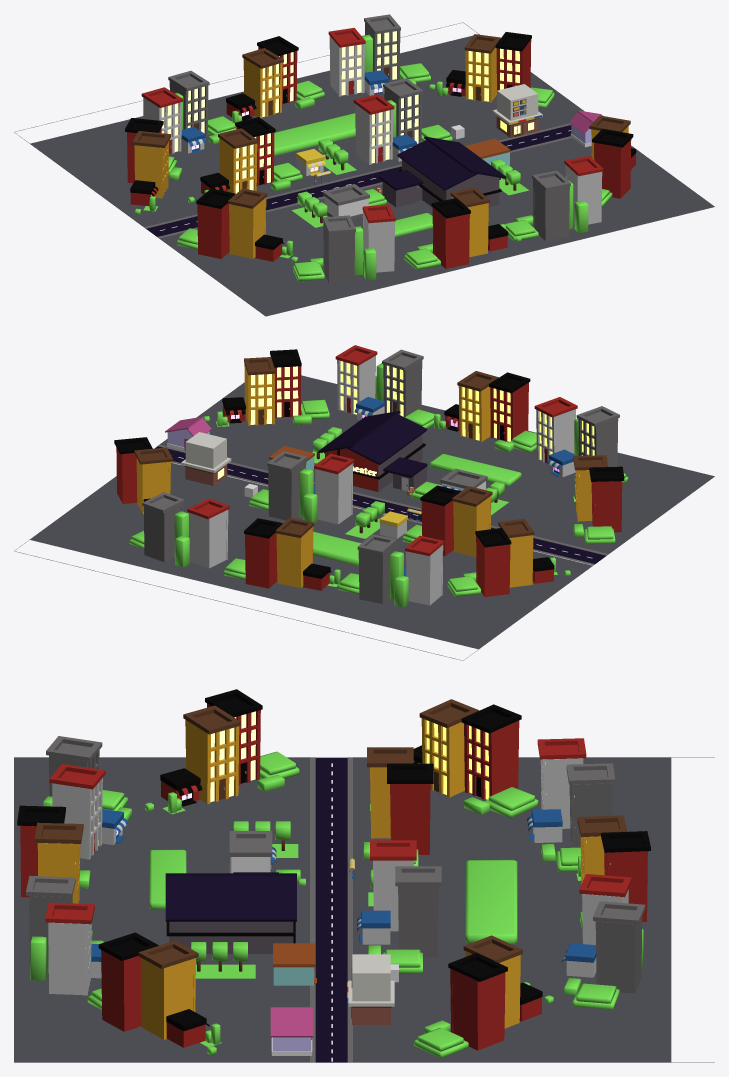
File: 66_cenario_FINALLL.fbx
3 views of the same model, one above another, from view 1: azimuth 30°, elevation 25°; view 2: azimuth 150°, elevation 25°; view 3: azimuth 270°, elevation 25° (orthographic). The views are drawn at different scales.
Visible parts, largest first — view 1: estrada.002, Plane.002, Cube.002, base teatro, Plane.003, estrada.001, estrada, bodega, Cube.014, casa prota, Plane.001, casa (+2 smaller); view 2: estrada.002, Plane.002, Cube.002, base teatro, Plane.003, estrada.001, bodega, estrada, Cube.014, casa, base teatro.003, casa prota (+2 smaller); view 3: estrada.002, Plane.002, Cube.002, estrada.001, base teatro, Plane.003, estrada, bodega, casa, casa prota, Cube.014, Plane.001 (+2 smaller).
Part boxes in pixels (bbox=[...]): estrada.002: bbox=[30, 34, 714, 316]; Plane.002: bbox=[125, 32, 636, 269]; Cube.002: bbox=[141, 14, 603, 283]; base teatro: bbox=[379, 136, 506, 207]; Plane.003: bbox=[274, 113, 432, 236]; estrada.001: bbox=[146, 125, 571, 236]; estrada: bbox=[14, 22, 713, 316]; bodega: bbox=[492, 84, 542, 137]; Cube.014: bbox=[297, 138, 520, 223]; casa prota: bbox=[322, 184, 369, 219]; Plane.001: bbox=[292, 154, 528, 227]; casa: bbox=[569, 110, 602, 147]; estrada.002: bbox=[30, 375, 714, 649]; Plane.002: bbox=[114, 349, 624, 596]; Cube.002: bbox=[129, 345, 628, 607]; base teatro: bbox=[318, 411, 427, 491]; Plane.003: bbox=[313, 454, 521, 565]; estrada.001: bbox=[155, 446, 605, 563]; bodega: bbox=[181, 432, 231, 485]; estrada: bbox=[14, 444, 714, 660]; Cube.014: bbox=[313, 427, 504, 533]; casa: bbox=[165, 416, 211, 450]; base teatro.003: bbox=[325, 448, 378, 491]; casa prota: bbox=[440, 468, 487, 491]; estrada.002: bbox=[14, 757, 671, 1062]; Plane.002: bbox=[17, 689, 650, 1057]; Cube.002: bbox=[26, 736, 645, 1009]; estrada.001: bbox=[315, 757, 347, 1062]; base teatro: bbox=[165, 872, 296, 953]; Plane.003: bbox=[149, 849, 517, 943]; estrada: bbox=[14, 757, 714, 1062]; bodega: bbox=[347, 954, 394, 1024]; casa: bbox=[270, 1007, 313, 1055]; casa prota: bbox=[229, 831, 276, 873]; Cube.014: bbox=[191, 821, 373, 971]; Plane.001: bbox=[195, 844, 373, 978].
Size of the model in its own units: 21660 by 2673 by 21037.
